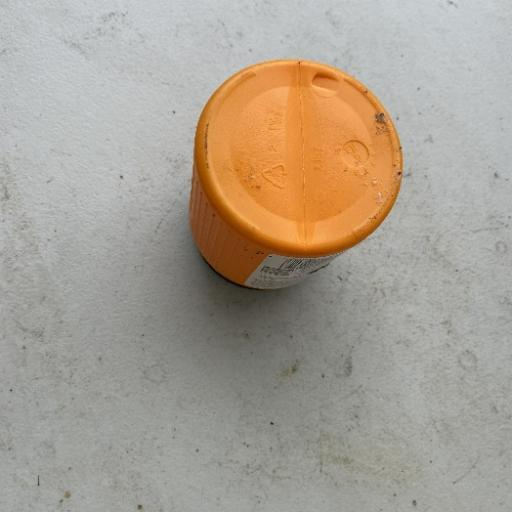Plastic: (186, 57, 404, 292)
